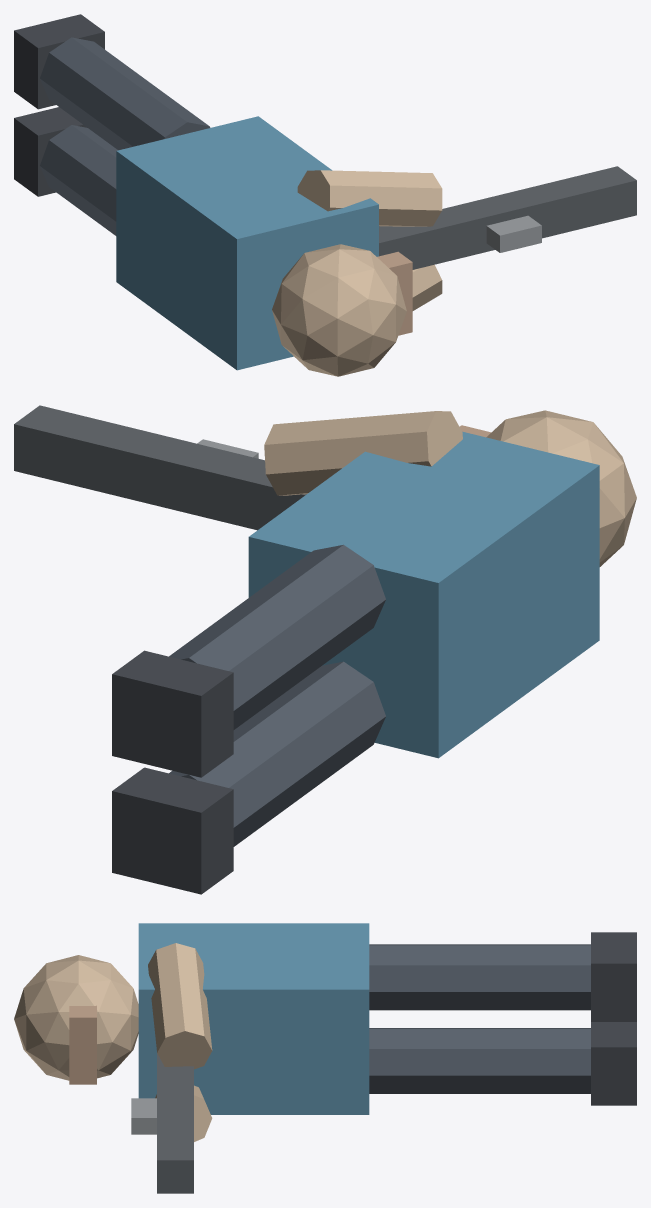
The model's file is player-aim.glb.
3 views of the same model, one above another, from view 1: azimuth 30°, elevation 25°; view 2: azimuth 150°, elevation 25°; view 3: azimuth 270°, elevation 25° (orthographic). The views are drawn at different scales.
Visible parts, largest first — view 1: body_torso, look_head, look_weapon, body_right_leg, look_right_arm, body_left_leg, body_right_boot, body_left_boot, look_weapon_sight, look_face, look_left_arm; view 2: body_torso, look_weapon, body_right_leg, body_left_leg, body_left_boot, body_right_boot, look_right_arm, look_head; view 3: body_torso, body_right_leg, body_left_leg, look_head, look_right_arm, look_weapon, body_right_boot, body_left_boot, look_face, look_weapon_sight, look_left_arm.
Boxes of the visible parts, x1,y1,x2,y2 form: body_torso: (116,116,378,370); look_head: (272,244,406,376); look_weapon: (379,166,636,269); body_right_leg: (40,37,210,150); look_right_arm: (297,170,442,226); body_left_leg: (40,125,117,235); body_right_boot: (14,14,104,109); body_left_boot: (14,107,87,196); look_weapon_sight: (486,215,541,252); look_face: (377,251,412,335); look_left_arm: (412,264,442,310); body_torso: (248,431,599,758); look_weapon: (14,405,306,530); body_right_leg: (169,544,385,729); body_left_leg: (169,661,385,846); body_left_boot: (112,767,233,894); body_right_boot: (112,650,233,777); look_right_arm: (264,411,462,495); look_head: (486,410,636,566); body_torso: (138,923,369,1114); body_right_leg: (369,944,590,1010); body_left_leg: (369,1028,590,1093); look_head: (14,955,138,1080); look_right_arm: (148,943,212,1069); look_weapon: (157,1053,193,1193); body_right_boot: (591,932,636,1021); body_left_boot: (591,1022,636,1105); look_face: (69,1005,96,1084); look_weapon_sight: (131,1098,156,1134); look_left_arm: (155,1085,212,1141).
Bounding box in the file's own units: 49 × 21.77 × 67.5.
